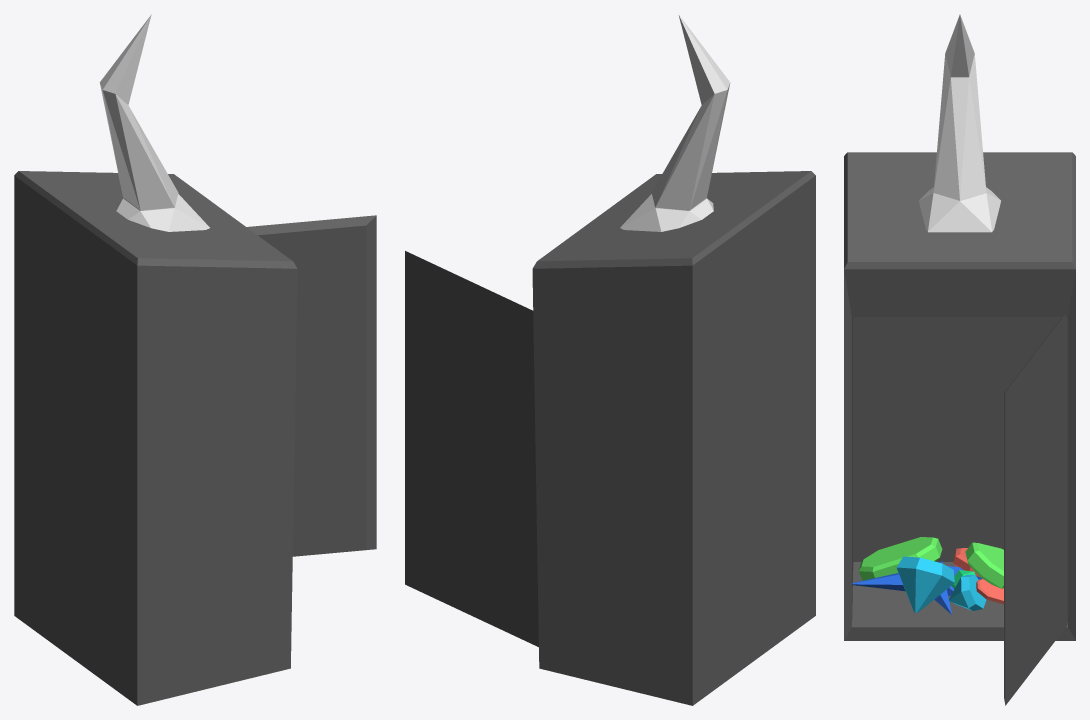
The model's file is drgn.glb.
3 renders of one model, left to right at view 1: azimuth 30°, elevation 25°; view 2: azimuth 150°, elevation 25°; view 3: azimuth 270°, elevation 25°, orthographic. The views are drawn at different scales.
Parts seen in each view (by area): view 1: Cube, Cube.001, Icosphere.005; view 2: Cube, Cube.001, Icosphere.005; view 3: Cube, Cube.001, Icosphere.005, Cone, Cylinder, Cylinder.003, Cone.001, Icosphere.001, Cylinder.002.
Part boxes in pixels (bbox=[...]): Cube: bbox=[14, 171, 297, 705]; Cube.001: bbox=[246, 215, 376, 556]; Icosphere.005: bbox=[99, 14, 209, 231]; Cube: bbox=[532, 171, 815, 705]; Cube.001: bbox=[405, 251, 538, 647]; Icosphere.005: bbox=[620, 14, 730, 231]; Cube: bbox=[844, 152, 1075, 640]; Cube.001: bbox=[1004, 314, 1067, 705]; Icosphere.005: bbox=[919, 14, 1000, 232]; Cone: bbox=[896, 556, 954, 612]; Cylinder: bbox=[858, 537, 942, 580]; Cylinder.003: bbox=[965, 542, 1003, 588]; Cone.001: bbox=[949, 574, 986, 610]; Icosphere.001: bbox=[852, 566, 982, 591]; Cylinder.002: bbox=[976, 579, 1003, 604].
Size of the model in its own units: 22.69 by 42.1 by 14.89.
